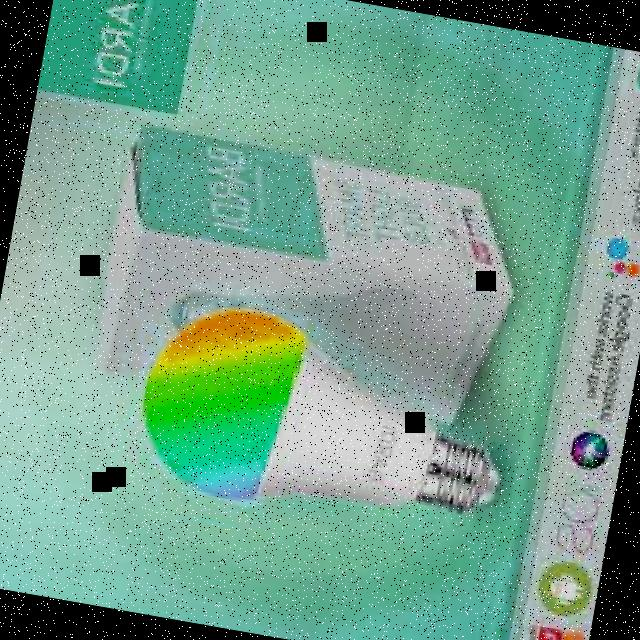light_bulb: (115, 287, 530, 563)
